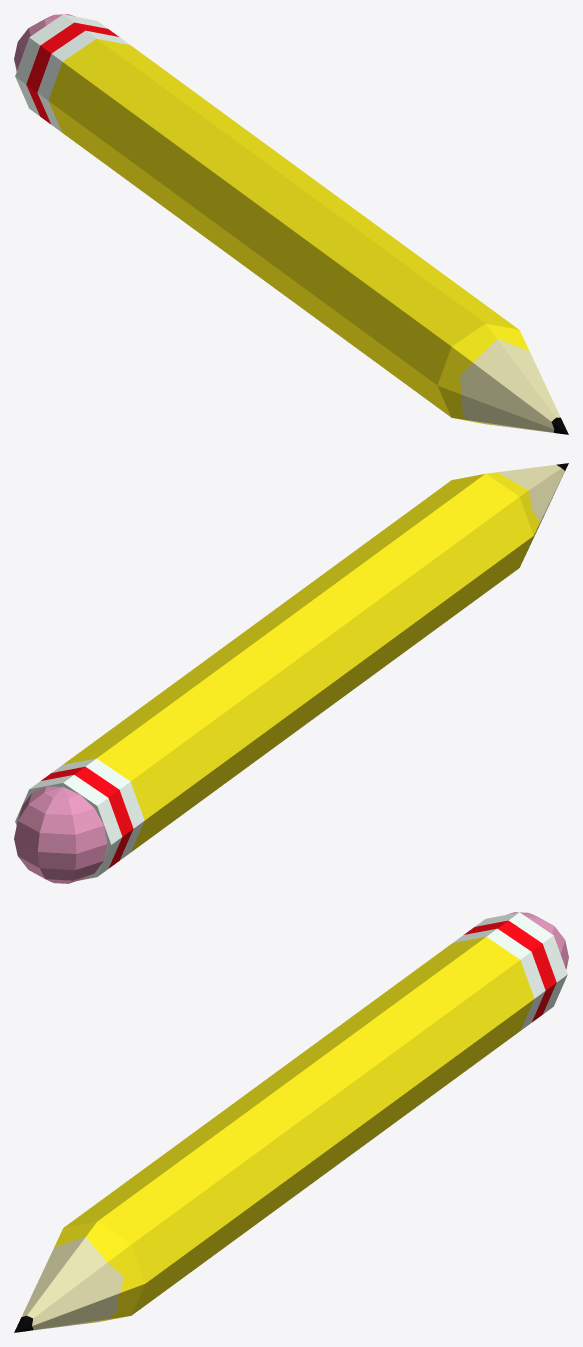
The model's file is pencil.glb.
3 views of the same model, one above another, from view 1: azimuth 30°, elevation 25°; view 2: azimuth 150°, elevation 25°; view 3: azimuth 330°, elevation 25° (orthographic).
Visible parts, largest first — view 1: Middle; view 2: Middle; view 3: Middle.
Boxes of the visible parts, x1=… form: Middle: x1=14, y1=14, x2=568, y2=434; Middle: x1=14, y1=463, x2=568, y2=883; Middle: x1=14, y1=912, x2=568, y2=1332.
Size of the model in its own units: 0.2 by 0.2 by 1.91.
